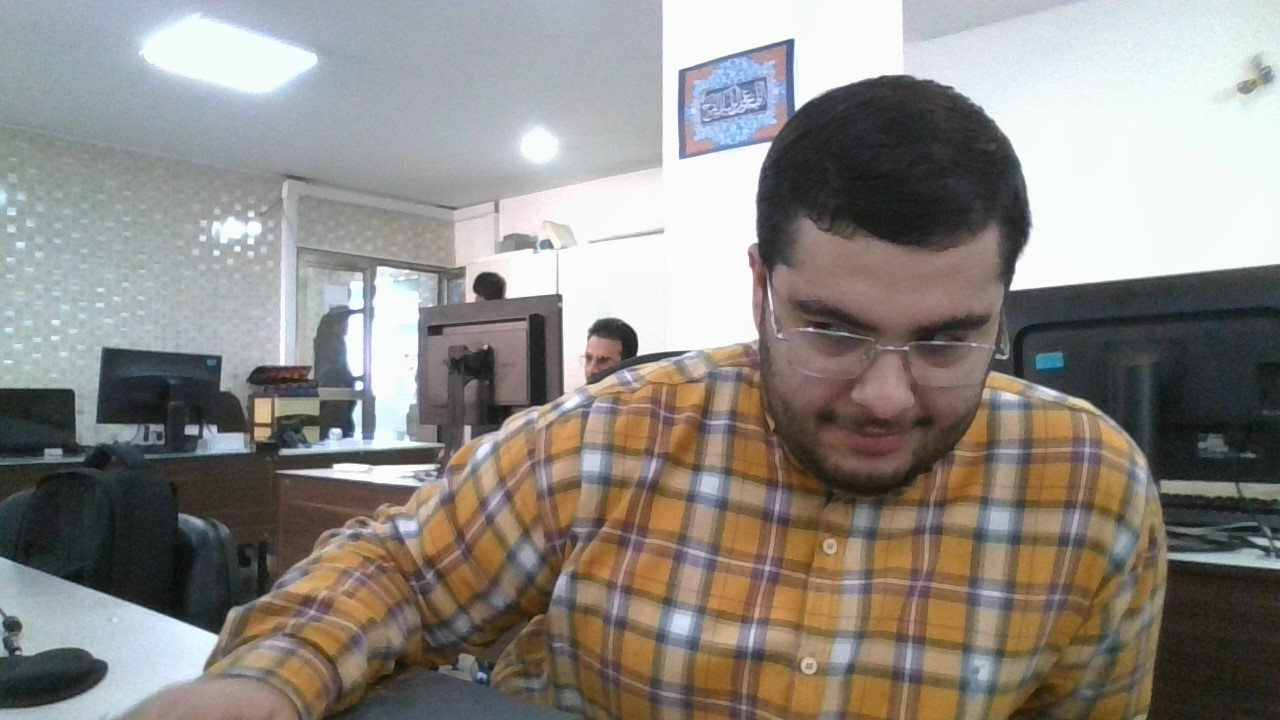NoMask: (762, 359, 982, 502)
